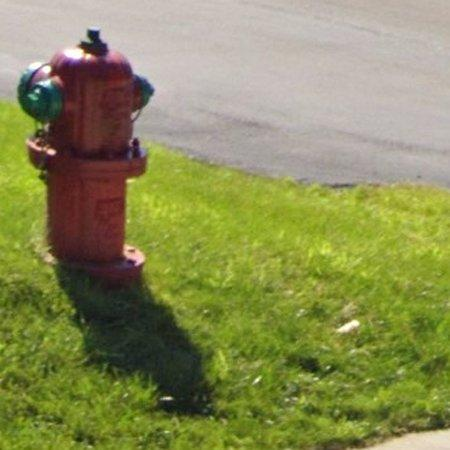a fire hydrant: (17, 29, 154, 285)
